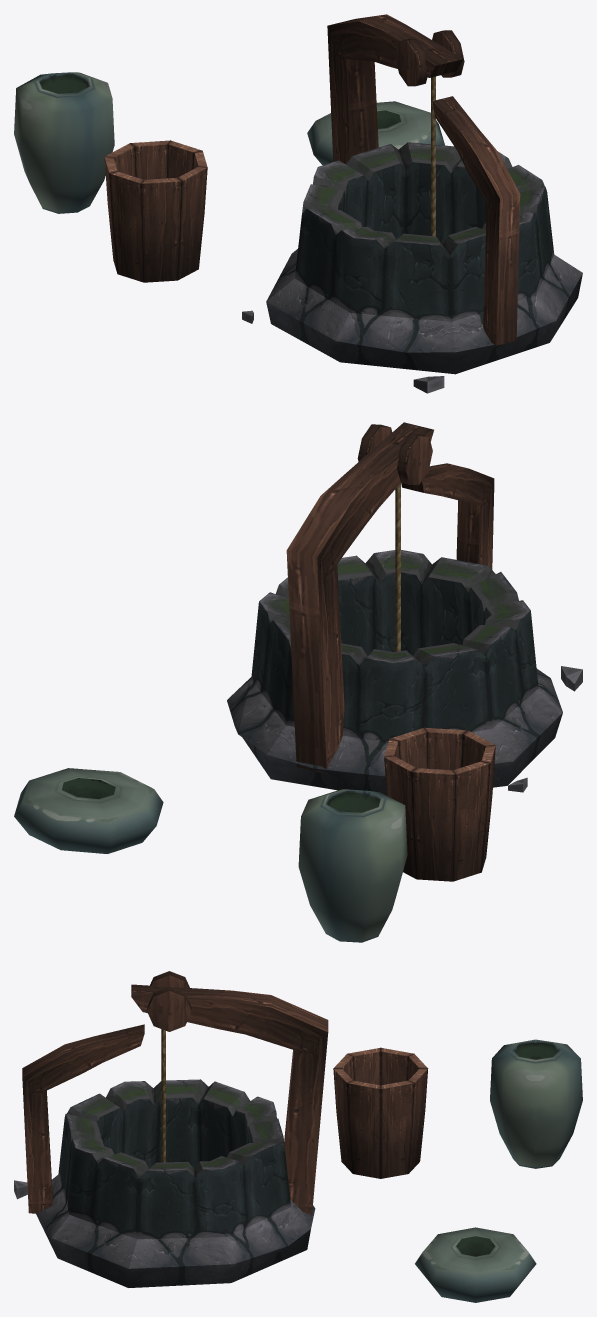
The model's file is shijing.FBX.
3 views of the same model, one above another, from view 1: azimuth 30°, elevation 25°; view 2: azimuth 150°, elevation 25°; view 3: azimuth 270°, elevation 25° (orthographic). The views are drawn at different scales.
Parts seen in each view (by area): view 1: shijing; view 2: shijing; view 3: shijing.
Part boxes in pixels (x1=…): shijing: x1=14, y1=14, x2=582, y2=393; shijing: x1=14, y1=422, x2=582, y2=942; shijing: x1=14, y1=971, x2=582, y2=1302.
Bounding box in the file's own units: 1012 × 1424 × 697.
